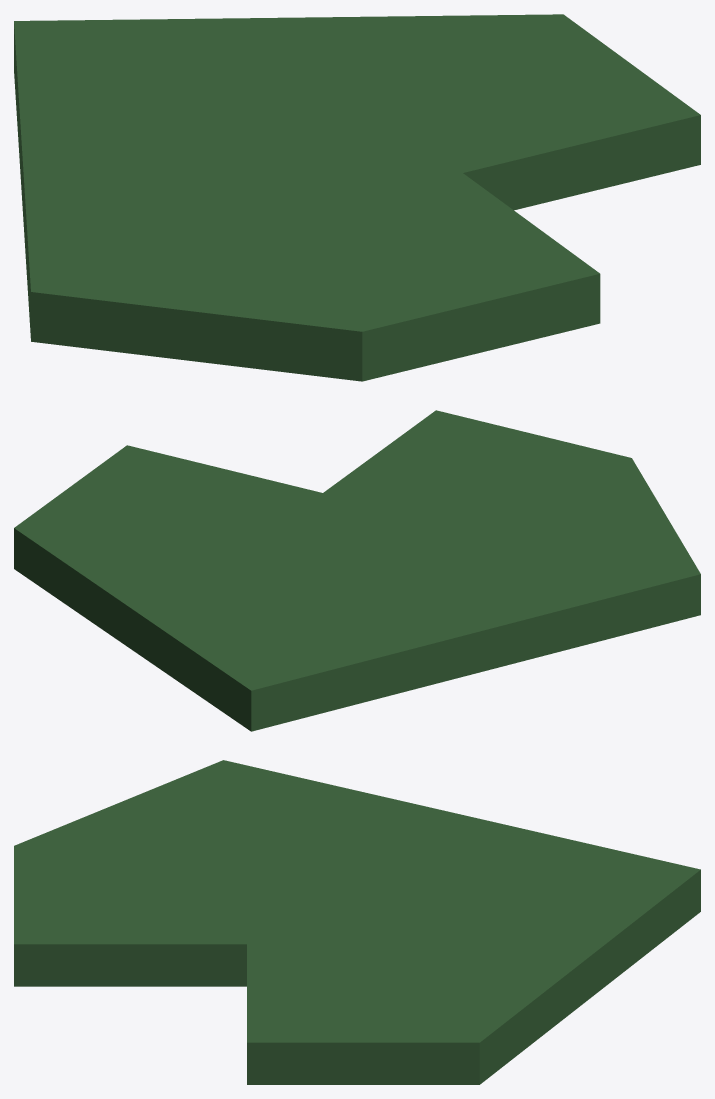
File: x_proval_00_38_1_rmstrd.fbx
3 renders of one model, top to bottom at view 1: azimuth 30°, elevation 25°; view 2: azimuth 150°, elevation 25°; view 3: azimuth 270°, elevation 25°, orthographic. The views are drawn at different scales.
Visible parts, largest first — view 1: x_proval_00_38_1_rmstrd1; view 2: x_proval_00_38_1_rmstrd1; view 3: x_proval_00_38_1_rmstrd1.
Part boxes in pixels (left/top/right/bottom): x_proval_00_38_1_rmstrd1: left=14, top=14, right=700, bottom=381; x_proval_00_38_1_rmstrd1: left=14, top=410, right=700, bottom=731; x_proval_00_38_1_rmstrd1: left=14, top=760, right=700, bottom=1084.
Bounding box in the file's own units: 2.87 × 0.2 × 2.95.
